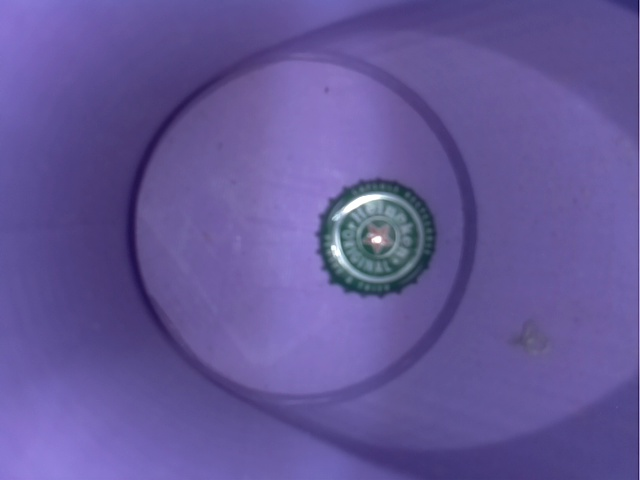capsule: (305, 168, 454, 302)
